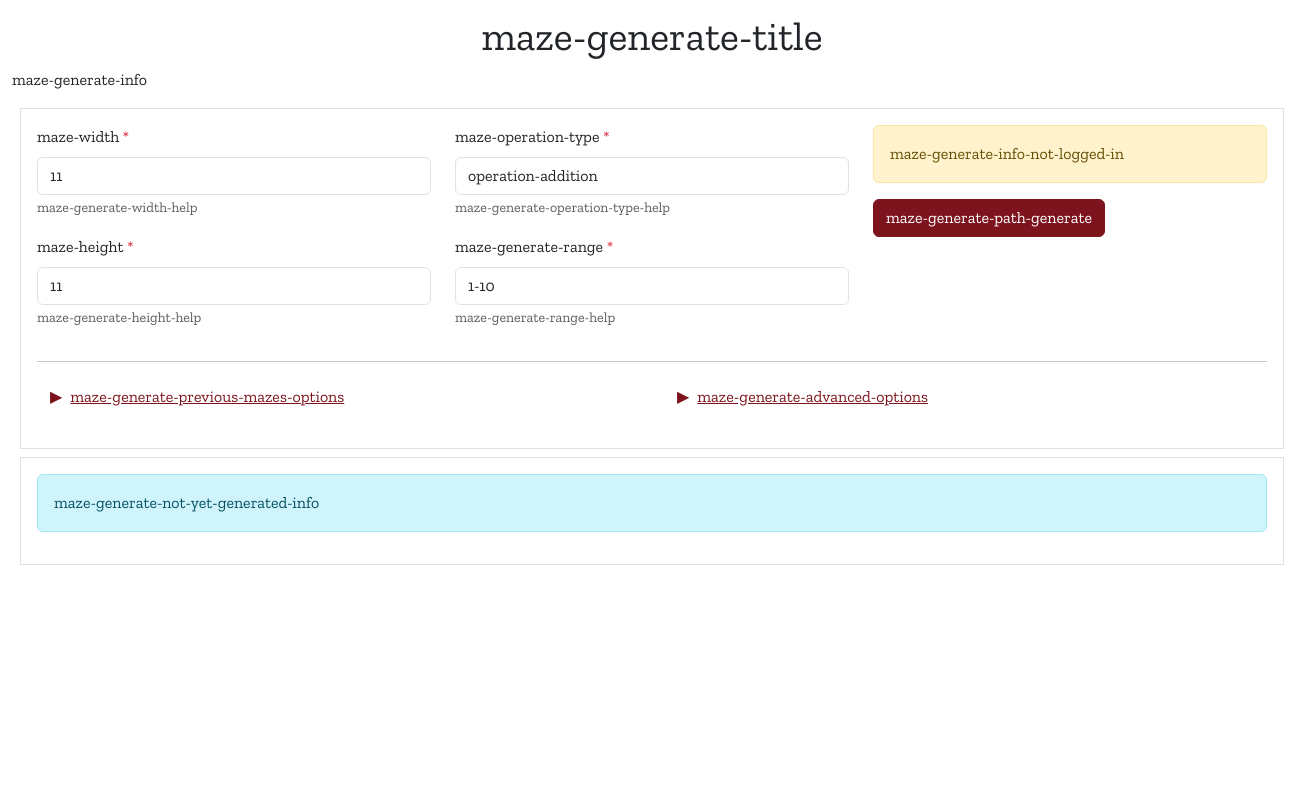
Test: GenerateMaze › renders and submits the form when the form is valid but receives InvalidPathRangeException
The width and height of the screenshot is (1292, 812).
Click the button "maze-generate-path-generate". click: (989, 218)
box: [873,199,1105,237]
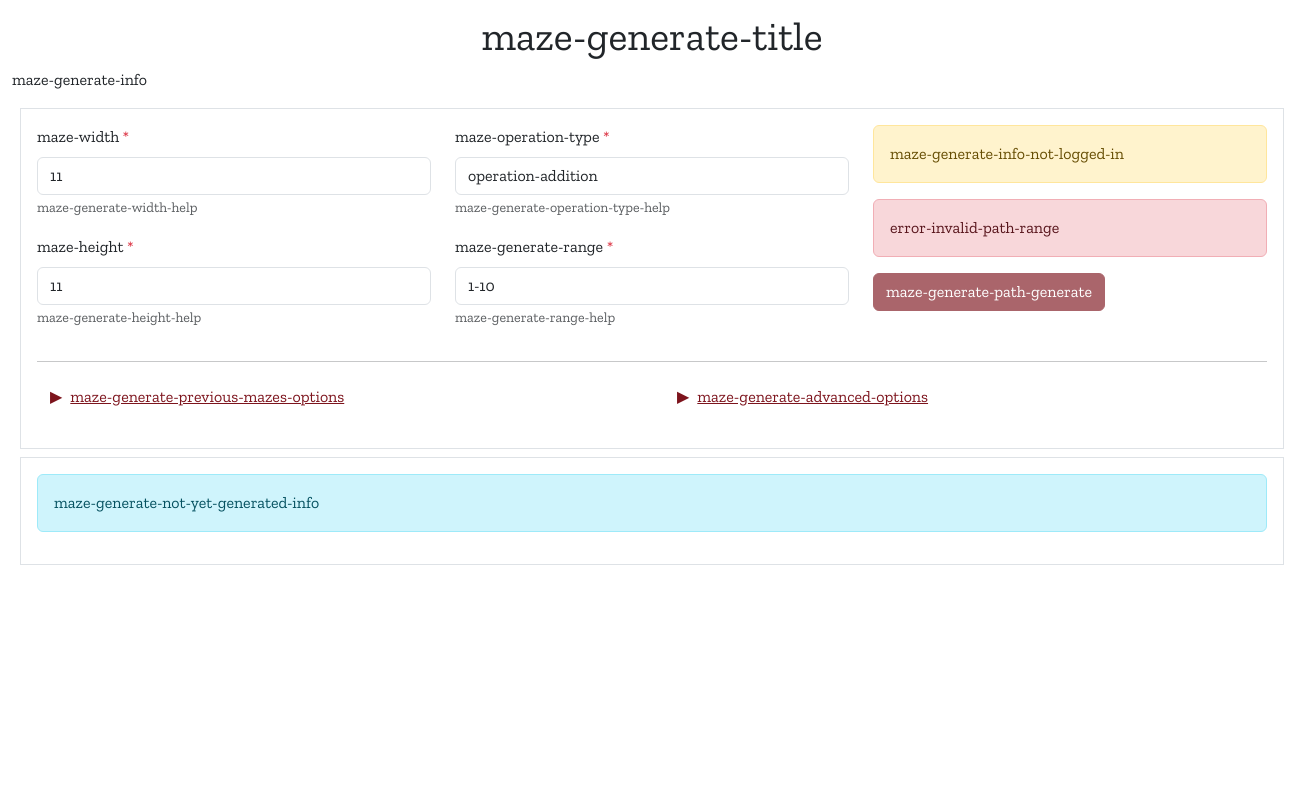
Expected: the text "error-invalid-path-range" is shown, [873,199,1267,257]
